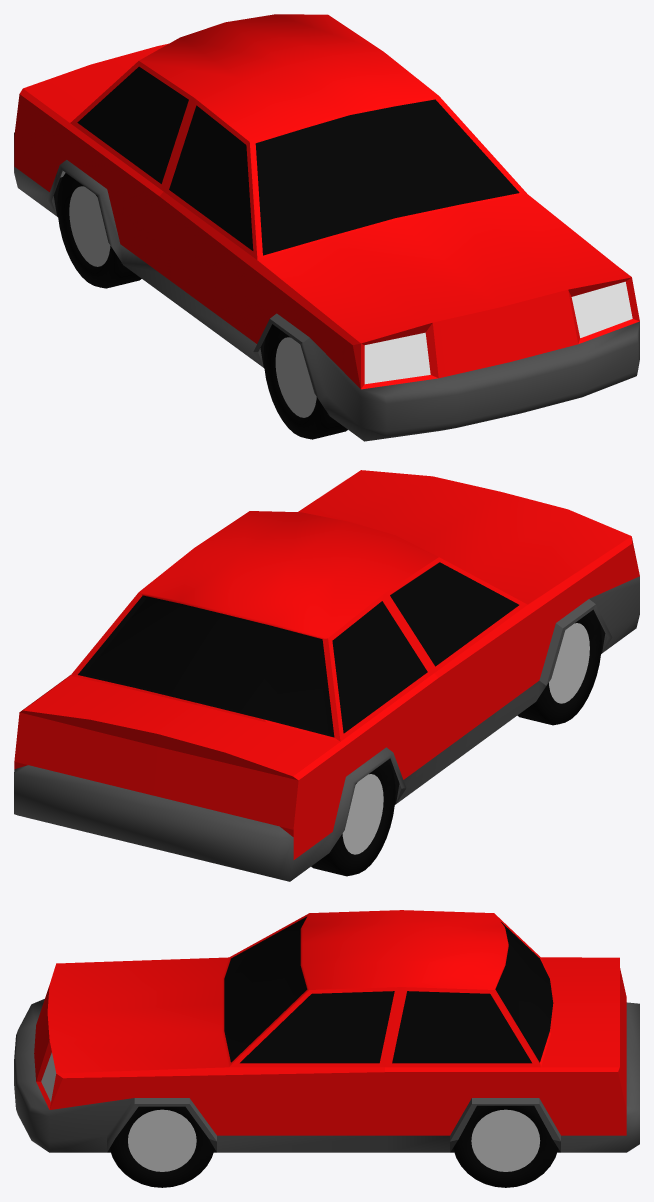
File: Car.glb
The picture shows the model from 3 angles, top to bottom: view 1: azimuth 30°, elevation 25°; view 2: azimuth 150°, elevation 25°; view 3: azimuth 270°, elevation 25°; orthographic projection. The views are drawn at different scales.
Visible parts, largest first — view 1: Car; view 2: Car; view 3: Car.
Part boxes in pixels (x1,y1,x2,y2): Car: [14, 14, 639, 441]; Car: [14, 470, 639, 881]; Car: [14, 910, 639, 1187].
Size of the model in its own units: 2.1 by 1.59 by 4.66.
